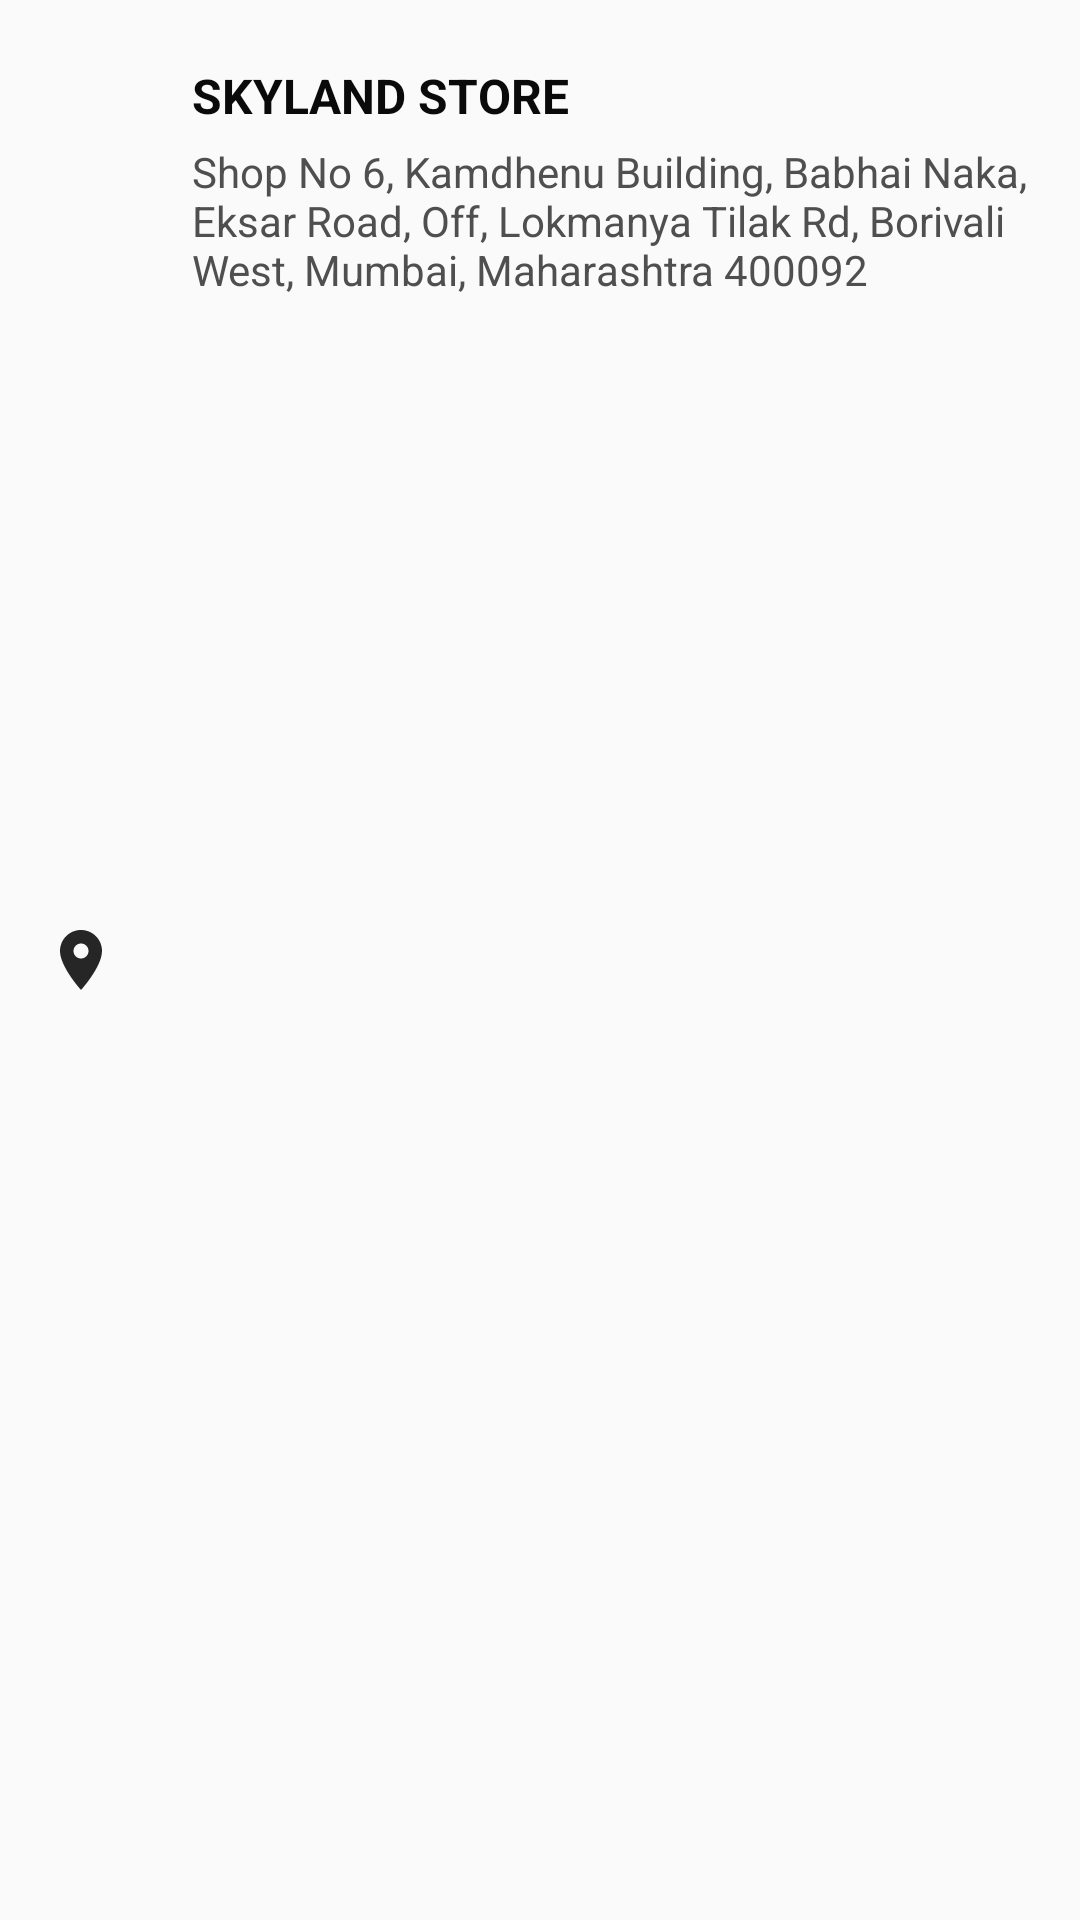

Where to tap for icons on this 1080*1920 app screen, as [x,y]:
location: [81,960]
